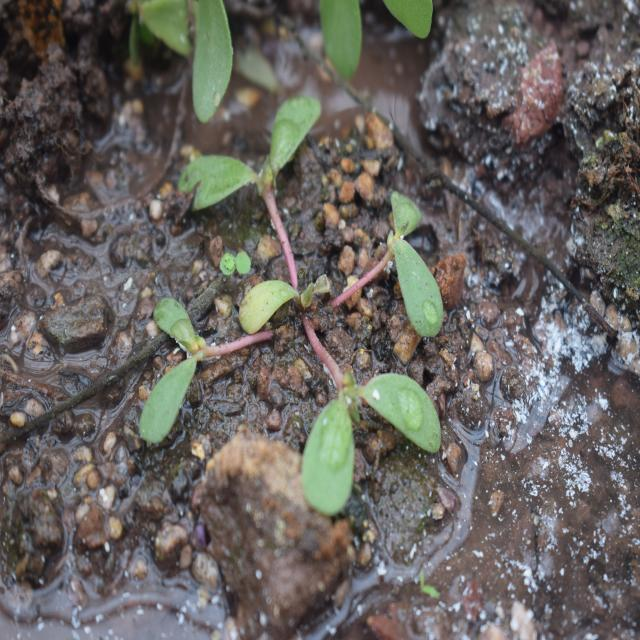purslane: (135, 97, 464, 498)
